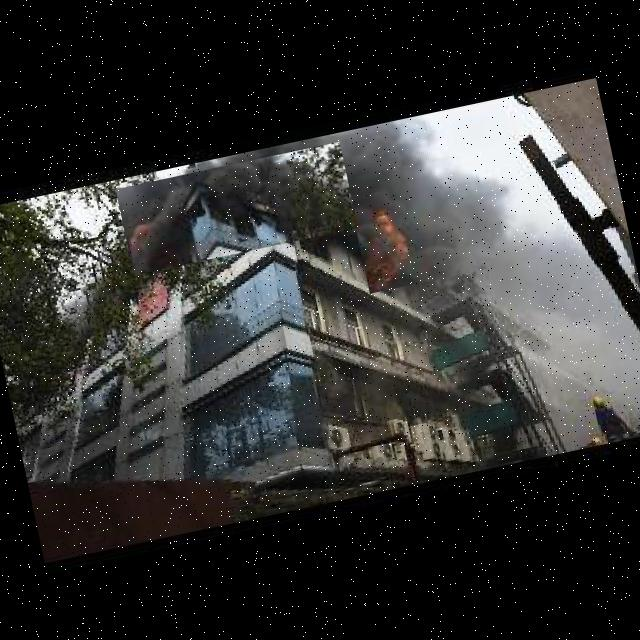fire: (115, 141, 358, 275), (345, 150, 498, 294)
